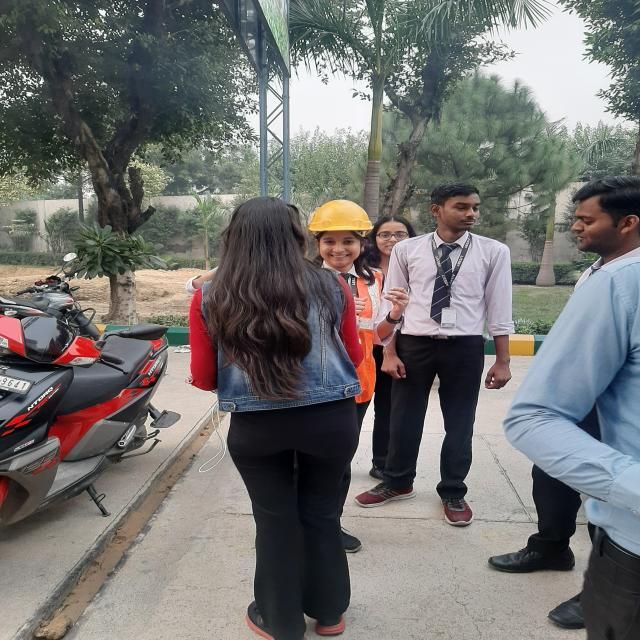unsafe: (197, 198, 374, 640), (354, 177, 524, 522)
